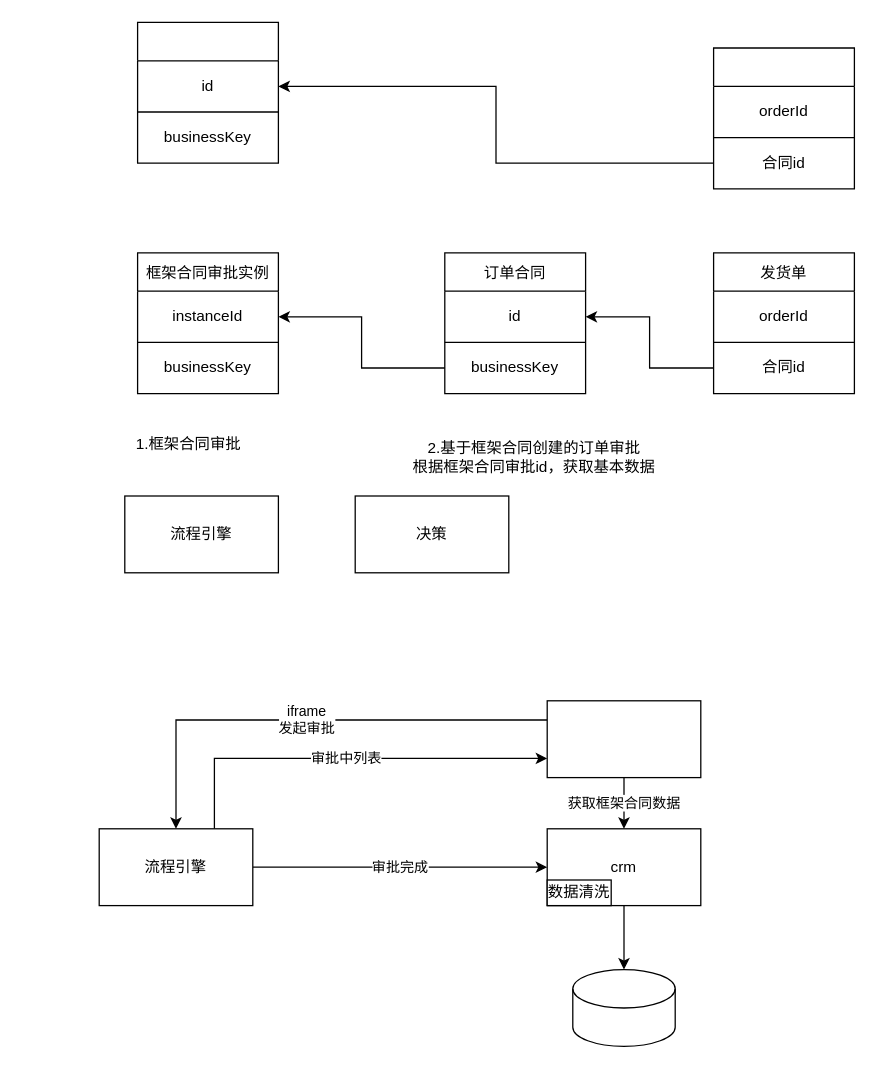
Some shapes in this 877 by 1069 pixel diagram are drawn without their labels. The box of each missing label's shape, as (x1, y1, x2, y2) in pixels:
crm-web: (546, 700, 701, 778)
db: (572, 968, 675, 1046)
订单: (712, 47, 854, 189)
销售合同: (136, 21, 278, 163)
